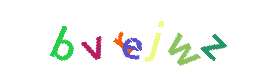B: (54, 0, 134, 80)
E: (91, 0, 171, 80)
J: (92, 0, 172, 80)
R: (84, 0, 164, 80)
V: (81, 0, 161, 80)
W: (111, 0, 191, 80)
Z: (137, 0, 217, 80)
